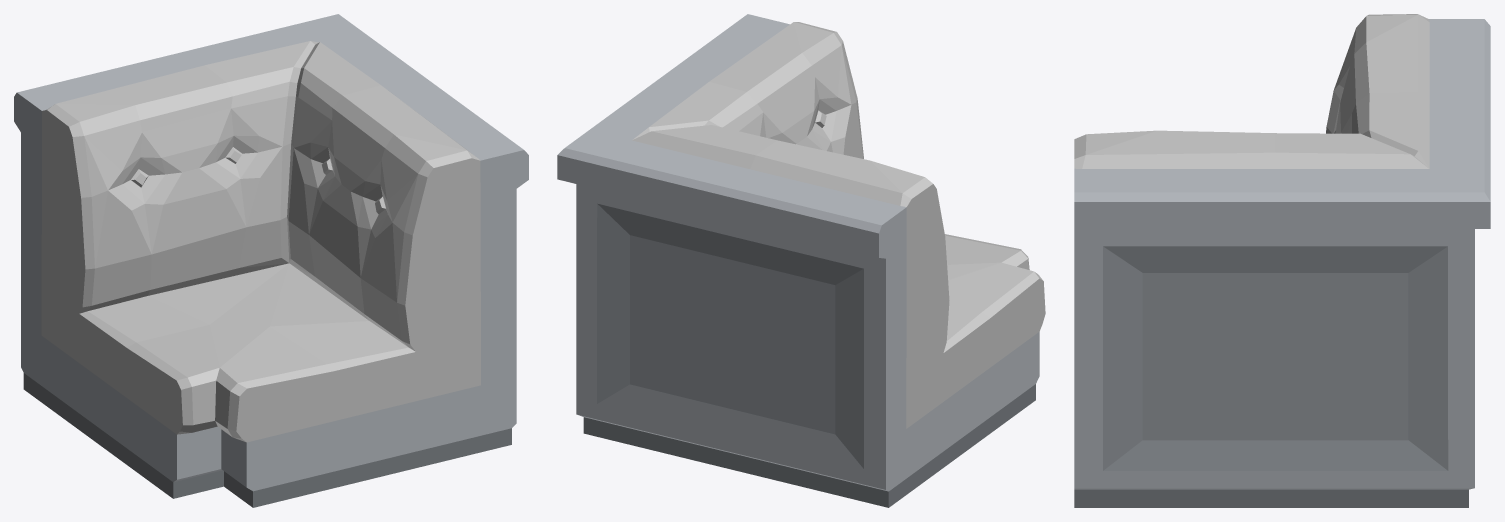
File: SM_Prop_Sofa_03_Corner_05.fbx
The picture shows the model from 3 angles, left to right: view 1: azimuth 30°, elevation 25°; view 2: azimuth 150°, elevation 25°; view 3: azimuth 270°, elevation 25°; orthographic projection. The views are drawn at different scales.
Parts seen in each view (by area): view 1: SM_Prop_Sofa_03_Corner_05; view 2: SM_Prop_Sofa_03_Corner_05; view 3: SM_Prop_Sofa_03_Corner_05.
Boxes of the visible parts, x1=… form: SM_Prop_Sofa_03_Corner_05: x1=14, y1=14, x2=528, y2=507; SM_Prop_Sofa_03_Corner_05: x1=557, y1=14, x2=1045, y2=507; SM_Prop_Sofa_03_Corner_05: x1=1074, y1=14, x2=1490, y2=507.
Bounding box in the file's own units: 125 × 111 × 125.
